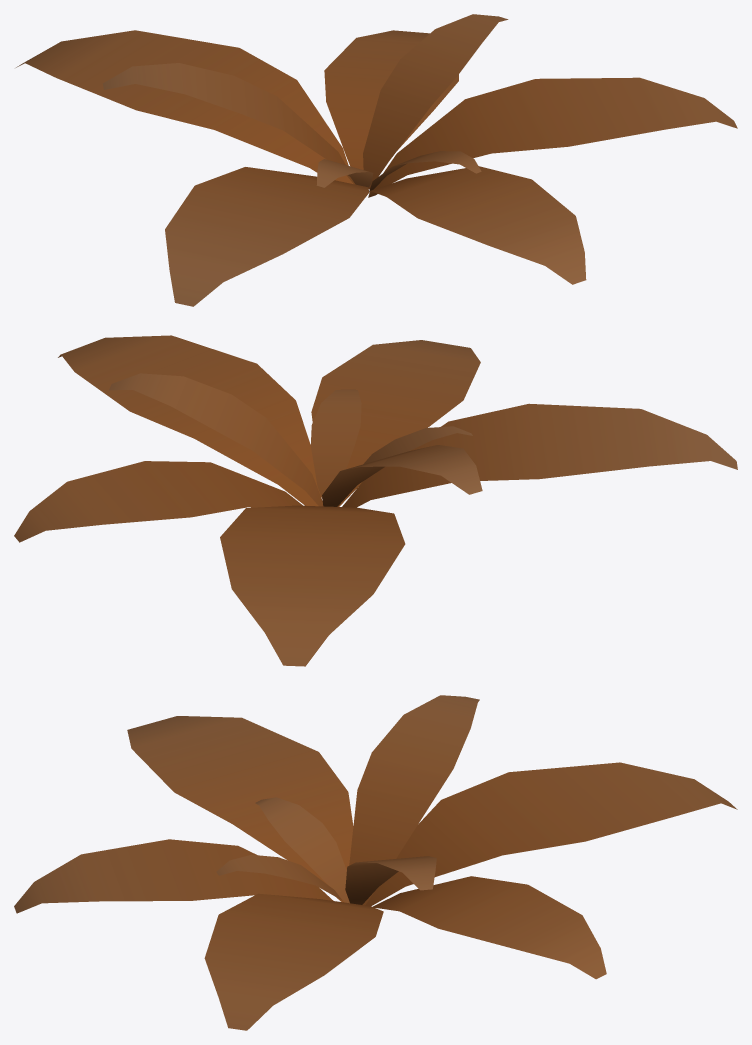
The model's file is plant3_006.fbx.
3 views of the same model, one above another, from view 1: azimuth 30°, elevation 25°; view 2: azimuth 150°, elevation 25°; view 3: azimuth 270°, elevation 25° (orthographic). The views are drawn at different scales.
Parts seen in each view (by area): view 1: plant3.006; view 2: plant3.006; view 3: plant3.006.
Boxes of the visible parts, x1,y1,x2,y2 form: plant3.006: (16,14,737,306); plant3.006: (14,335,737,666); plant3.006: (14,695,737,1030).
Bounding box in the file's own units: 40.92 × 7.92 × 41.89.
